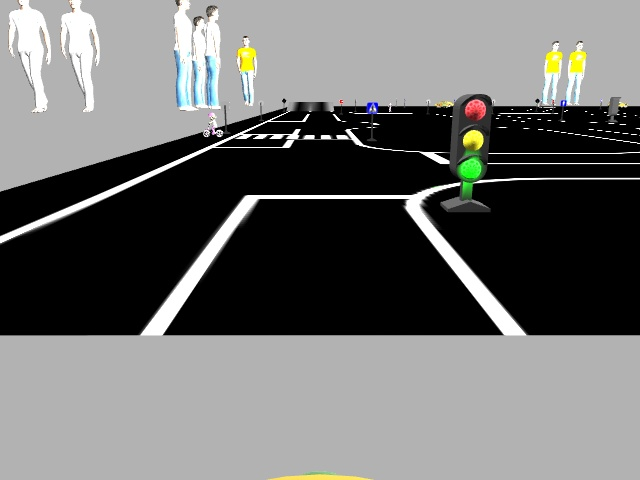Crosswalk: (367, 101, 377, 113)
Pedestrian: (202, 113, 222, 137)
TrafficLight: (449, 95, 492, 183)
